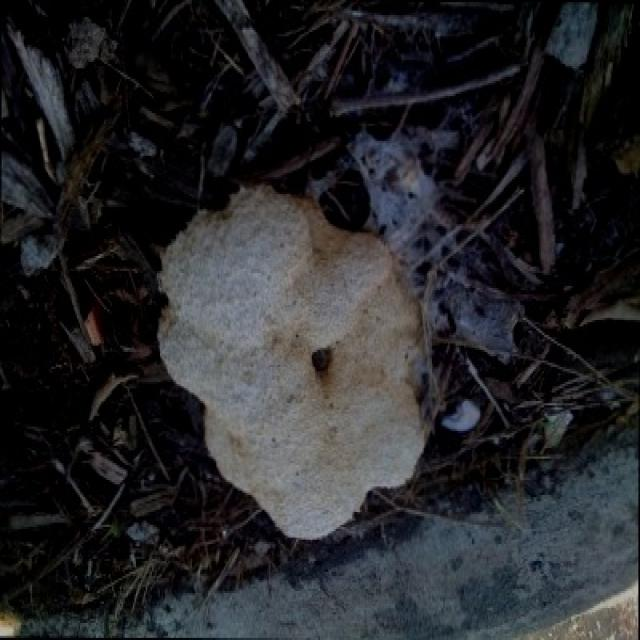Dog_vomit_slime_mold: (158, 159, 433, 529)
